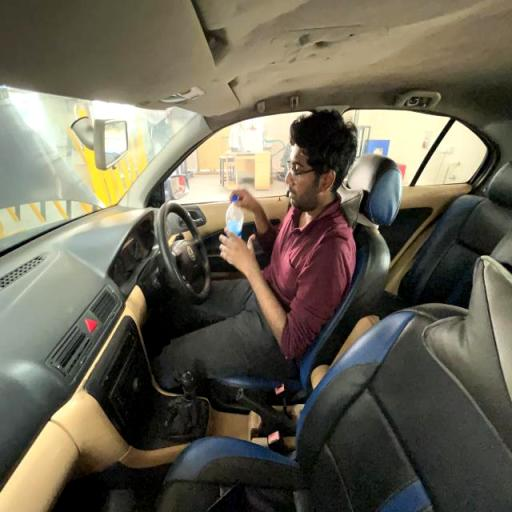Drinking: (191, 107, 360, 374)
